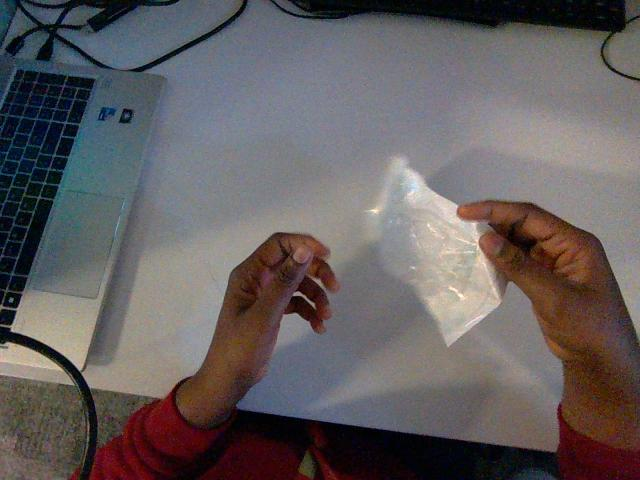gallipot: (369, 159, 506, 345)
